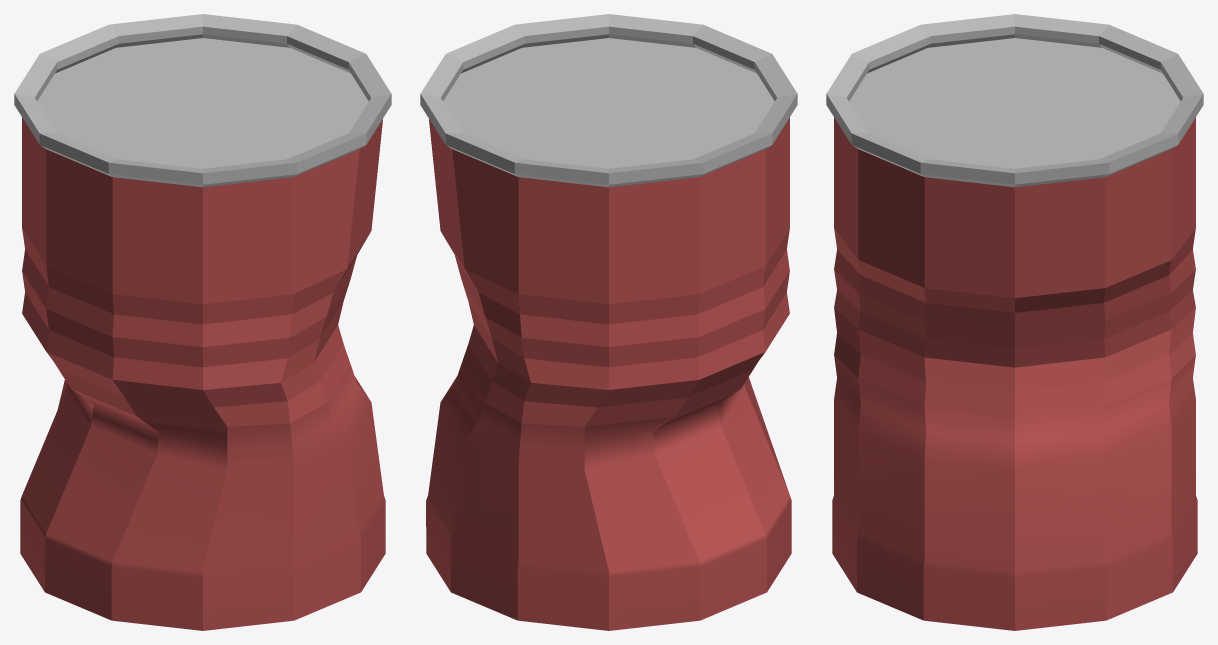
Rendered from Lata1.fbx.
3 views of the same model, side by side, from view 1: azimuth 30°, elevation 25°; view 2: azimuth 150°, elevation 25°; view 3: azimuth 270°, elevation 25° (orthographic).
Visible parts, largest first — view 1: Can1; view 2: Can1; view 3: Can1.
Part boxes in pixels (box(x1,y1,x2,y2)): Can1: box(14, 14, 391, 630); Can1: box(420, 14, 797, 630); Can1: box(826, 14, 1203, 630).
Bounding box in the file's own units: 1.1 × 1.49 × 1.1.
